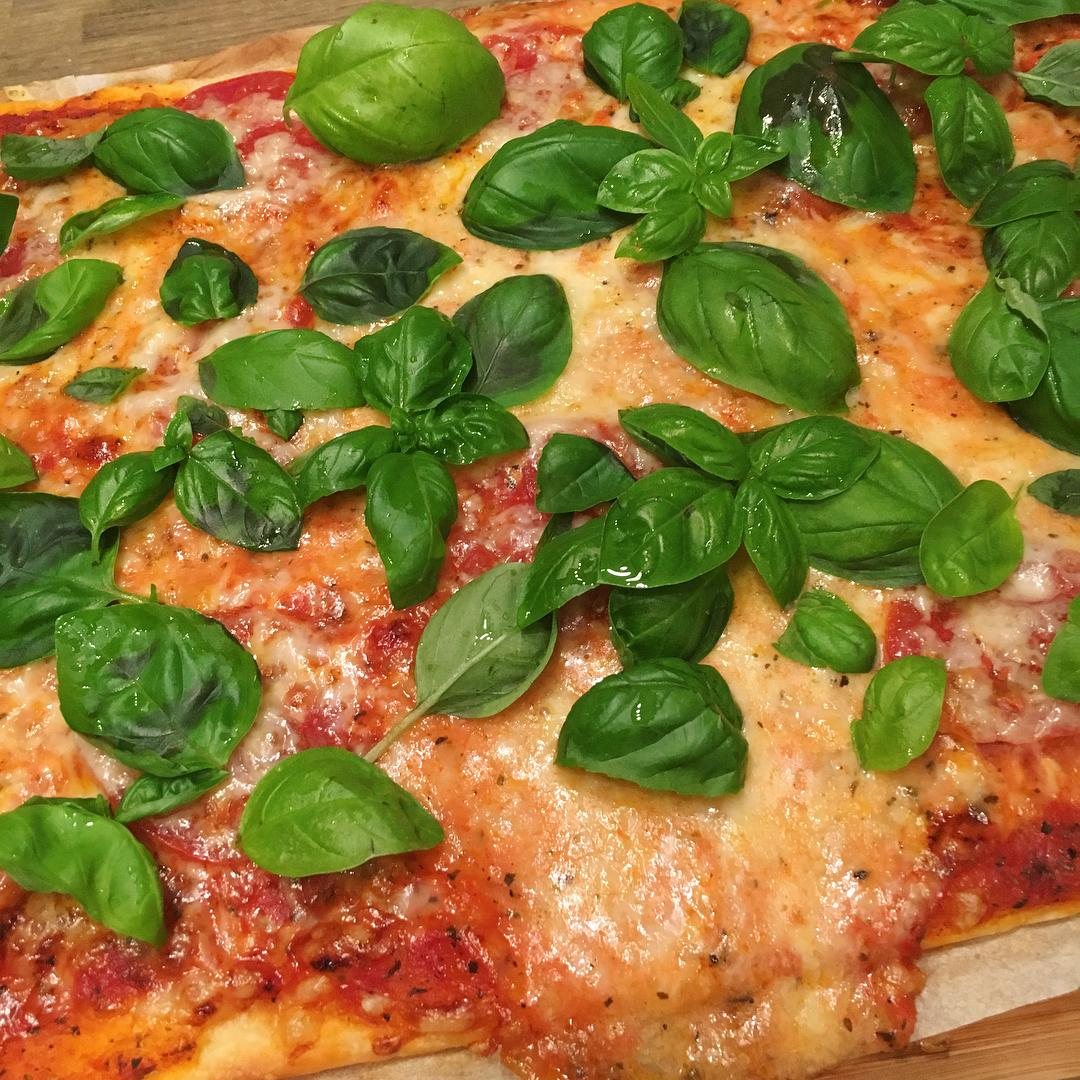Basil: (546, 398, 1019, 601), (572, 585, 763, 817), (633, 233, 868, 402), (951, 147, 1080, 451), (43, 607, 253, 788), (281, 13, 516, 172), (81, 407, 301, 554), (731, 49, 912, 222), (233, 745, 450, 889), (353, 327, 465, 589), (403, 557, 561, 725), (5, 789, 160, 952), (461, 125, 666, 237), (173, 321, 382, 421), (581, 13, 712, 153), (83, 105, 268, 201), (5, 481, 101, 645), (453, 277, 574, 405), (295, 221, 446, 308), (846, 660, 969, 763), (851, 7, 1022, 77), (931, 77, 1008, 217), (1, 261, 114, 354), (147, 233, 258, 312), (529, 423, 629, 501), (779, 593, 864, 673), (1029, 600, 1080, 701)
Cheese: (487, 627, 940, 989), (441, 245, 700, 425)
Pepperoni: (900, 534, 1075, 749), (228, 552, 403, 729), (449, 450, 557, 601), (185, 73, 334, 174)
Pizza: (1, 0, 1080, 1080)
